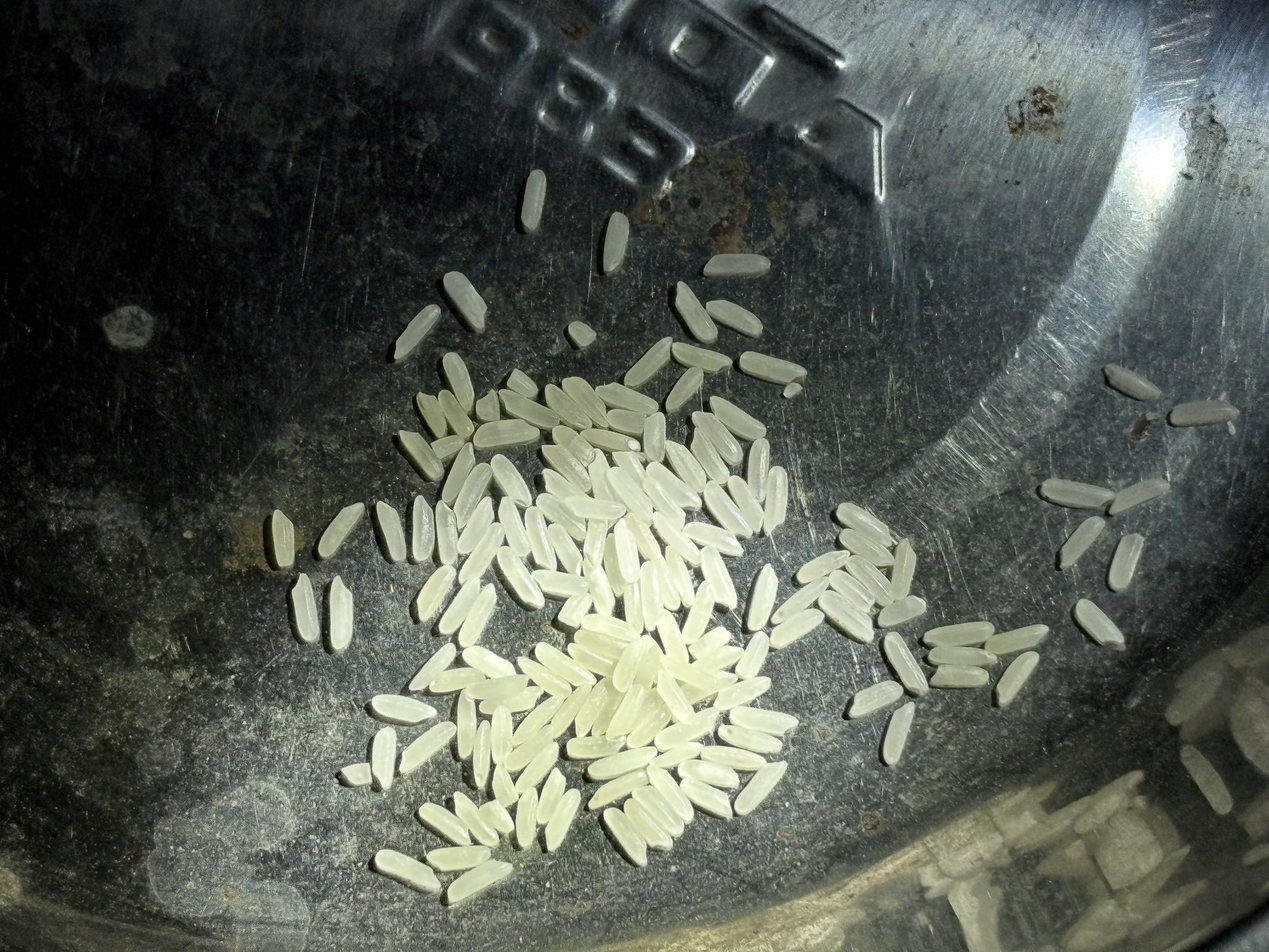Rice-th-y-nh: (1073, 765, 1145, 837), (1109, 807, 1166, 889), (541, 466, 615, 527), (1129, 879, 1203, 940), (660, 650, 736, 704), (1179, 742, 1234, 816), (638, 99, 698, 164), (411, 1, 469, 67), (1136, 105, 1192, 171), (653, 702, 720, 756), (604, 464, 656, 529), (847, 128, 893, 201), (495, 544, 545, 611), (817, 134, 873, 193), (771, 75, 827, 134), (1163, 672, 1223, 727), (818, 588, 874, 646), (700, 479, 753, 540), (534, 637, 595, 690), (691, 406, 744, 467), (445, 857, 515, 903), (561, 43, 618, 99), (734, 758, 788, 817), (458, 521, 507, 586), (625, 688, 674, 753), (1060, 897, 1121, 949), (793, 73, 842, 137), (646, 457, 701, 514), (498, 38, 543, 107), (882, 631, 929, 697), (646, 763, 695, 825), (1143, 841, 1192, 903), (696, 544, 742, 610), (836, 497, 893, 550), (708, 392, 766, 444), (473, 412, 541, 456), (683, 513, 744, 562), (442, 268, 489, 331), (398, 720, 456, 771), (652, 509, 702, 568), (570, 675, 616, 739), (630, 784, 685, 837), (547, 681, 594, 743), (513, 691, 564, 748), (603, 806, 649, 869), (392, 303, 441, 362), (1135, 796, 1184, 855), (845, 552, 895, 609), (373, 848, 440, 890), (536, 488, 587, 543), (451, 790, 498, 849), (520, 506, 562, 572), (630, 561, 669, 632), (665, 176, 706, 242), (517, 652, 571, 702), (562, 374, 610, 430), (451, 463, 493, 527), (504, 723, 555, 775), (882, 538, 924, 601), (580, 606, 640, 650), (397, 427, 444, 483), (995, 650, 1042, 706), (725, 474, 768, 535), (318, 501, 364, 558), (673, 282, 715, 344), (494, 495, 534, 560), (623, 797, 672, 850), (438, 576, 482, 635), (515, 741, 562, 796), (489, 453, 535, 509), (663, 437, 708, 494), (544, 381, 593, 433), (409, 641, 458, 693), (1074, 598, 1127, 646), (609, 635, 652, 694), (688, 427, 731, 486), (772, 578, 827, 624), (586, 745, 656, 781), (463, 721, 500, 789), (604, 684, 648, 741), (428, 500, 466, 566), (737, 350, 806, 386), (587, 768, 649, 808), (643, 475, 687, 531), (625, 337, 674, 387), (542, 442, 591, 492), (1059, 515, 1106, 567), (479, 681, 543, 719), (418, 802, 472, 847), (415, 564, 456, 623), (608, 521, 646, 584), (1042, 477, 1112, 511), (583, 449, 618, 517), (654, 667, 695, 725), (740, 437, 776, 503), (456, 496, 496, 555), (507, 787, 545, 849), (1037, 836, 1087, 883), (459, 586, 498, 646), (652, 608, 692, 666), (701, 249, 771, 282), (545, 522, 586, 578), (544, 789, 581, 851), (680, 584, 717, 646), (730, 705, 797, 739), (747, 563, 780, 632), (679, 777, 733, 819), (594, 534, 630, 597), (927, 641, 995, 674), (501, 393, 560, 431), (290, 572, 322, 642), (532, 563, 588, 603), (1226, 620, 1269, 672), (531, 767, 570, 824), (1109, 477, 1169, 514), (713, 675, 773, 712), (882, 701, 916, 766), (717, 722, 782, 756), (984, 623, 1049, 657), (326, 578, 356, 651), (771, 607, 823, 649), (623, 512, 665, 564), (707, 298, 763, 337), (736, 55, 775, 111), (629, 635, 668, 691), (1108, 533, 1145, 592), (678, 756, 740, 791), (1169, 397, 1239, 428), (849, 678, 903, 718), (839, 529, 894, 568), (371, 691, 436, 724), (567, 637, 615, 681), (441, 443, 476, 503), (441, 352, 476, 412), (924, 619, 994, 649), (1105, 365, 1161, 402), (829, 569, 875, 614), (663, 547, 697, 607), (599, 381, 659, 415), (542, 467, 593, 507), (463, 674, 532, 703), (375, 501, 407, 563), (701, 741, 763, 773), (795, 549, 851, 584), (462, 644, 517, 679), (665, 365, 705, 413), (671, 342, 731, 374), (762, 466, 790, 533), (637, 412, 673, 464), (601, 212, 631, 274), (428, 843, 492, 872), (551, 425, 594, 468), (735, 630, 771, 681), (519, 170, 548, 233), (369, 727, 398, 790), (647, 559, 682, 611), (410, 495, 437, 562), (691, 641, 745, 674), (437, 389, 474, 437), (583, 565, 617, 617), (566, 733, 625, 762), (270, 509, 298, 570), (877, 595, 928, 628), (454, 691, 479, 758), (616, 583, 648, 634), (582, 426, 640, 454), (429, 665, 485, 694), (930, 663, 988, 691), (652, 739, 701, 772), (415, 391, 449, 438), (598, 150, 641, 187), (489, 704, 516, 762), (1227, 915, 1269, 952), (686, 625, 731, 659), (612, 449, 647, 491), (479, 797, 515, 834), (556, 592, 592, 627), (490, 764, 520, 806), (606, 408, 648, 436), (626, 127, 658, 160), (507, 368, 539, 398), (431, 433, 465, 460), (475, 389, 502, 422), (567, 320, 597, 347), (341, 762, 372, 787), (1241, 841, 1269, 867), (782, 382, 803, 399)
